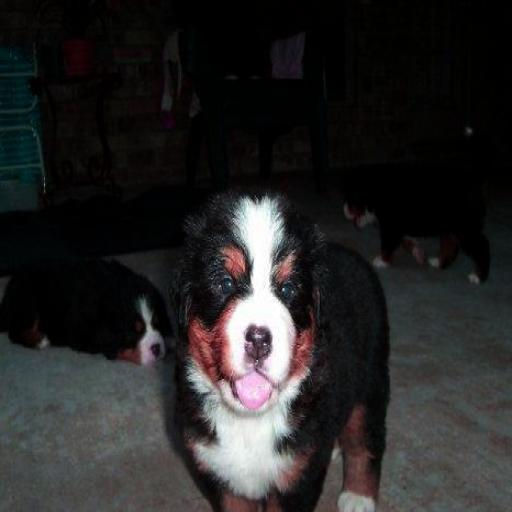dog_face: (176, 191, 324, 400)
